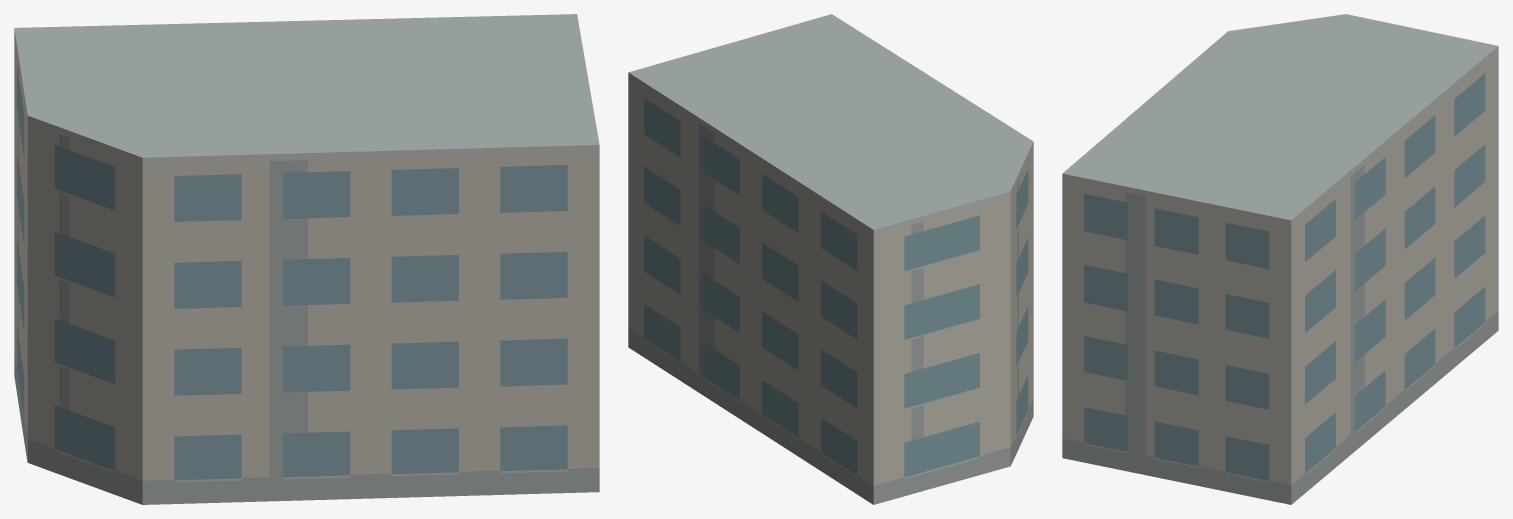
The model's file is residential-9d9d4397-db80-49be-87e5-668c408ce3a5.glb.
3 renders of one model, left to right at view 1: azimuth 30°, elevation 25°; view 2: azimuth 150°, elevation 25°; view 3: azimuth 270°, elevation 25°, orthographic. The views are drawn at different scales.
Parts seen in each view (by area): view 1: residential-9d9d4397-db80-49be-87e5-668c408ce3a5.tmp; view 2: residential-9d9d4397-db80-49be-87e5-668c408ce3a5.tmp; view 3: residential-9d9d4397-db80-49be-87e5-668c408ce3a5.tmp.
Boxes of the visible parts, bbox=[...] form: residential-9d9d4397-db80-49be-87e5-668c408ce3a5.tmp: bbox=[14, 14, 599, 504]; residential-9d9d4397-db80-49be-87e5-668c408ce3a5.tmp: bbox=[628, 14, 1033, 504]; residential-9d9d4397-db80-49be-87e5-668c408ce3a5.tmp: bbox=[1062, 14, 1498, 504].
Bounding box in the file's own units: 18.68 × 12 × 16.69.
